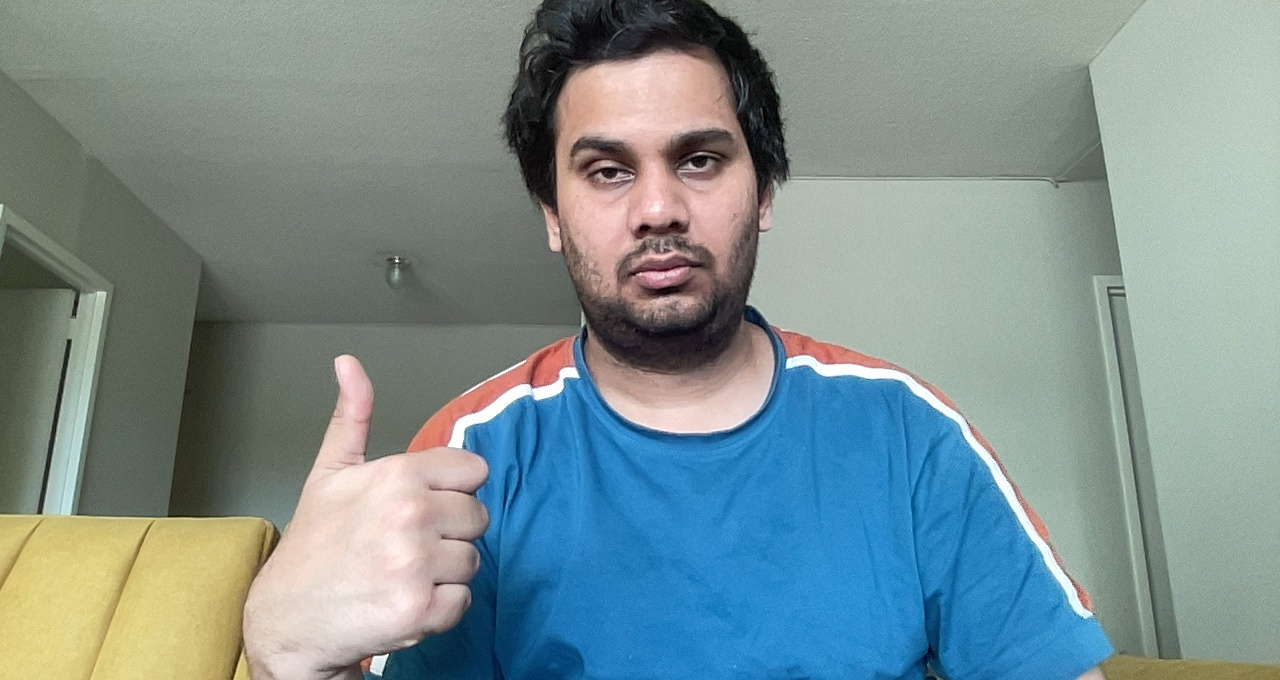thumbsup: (273, 337, 504, 665)
